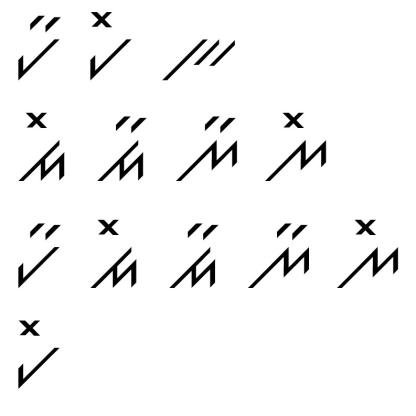dan: (94, 111, 150, 183), (166, 222, 223, 292)
do: (11, 108, 71, 184), (86, 216, 141, 292)
nan: (174, 113, 245, 188), (244, 216, 314, 292)
no: (264, 110, 336, 185), (335, 216, 401, 293)
pan: (10, 221, 66, 288), (10, 14, 66, 81)
po: (9, 318, 66, 393), (84, 8, 136, 84)
